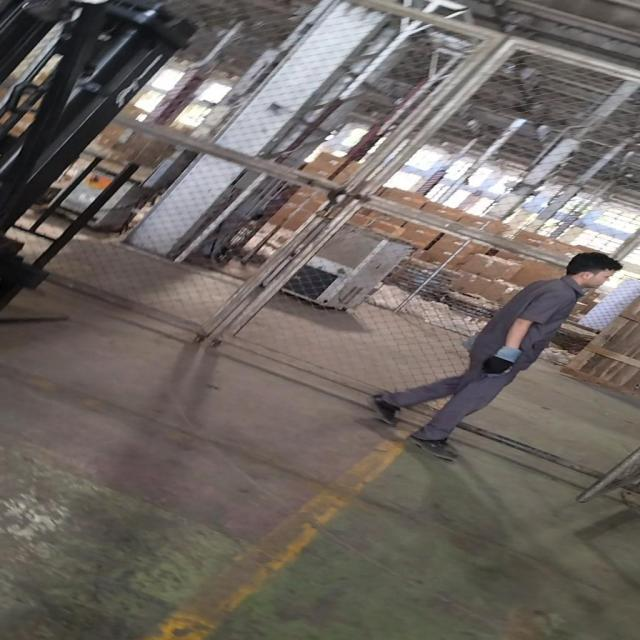Gloves-Detection: (485, 340, 520, 378)
